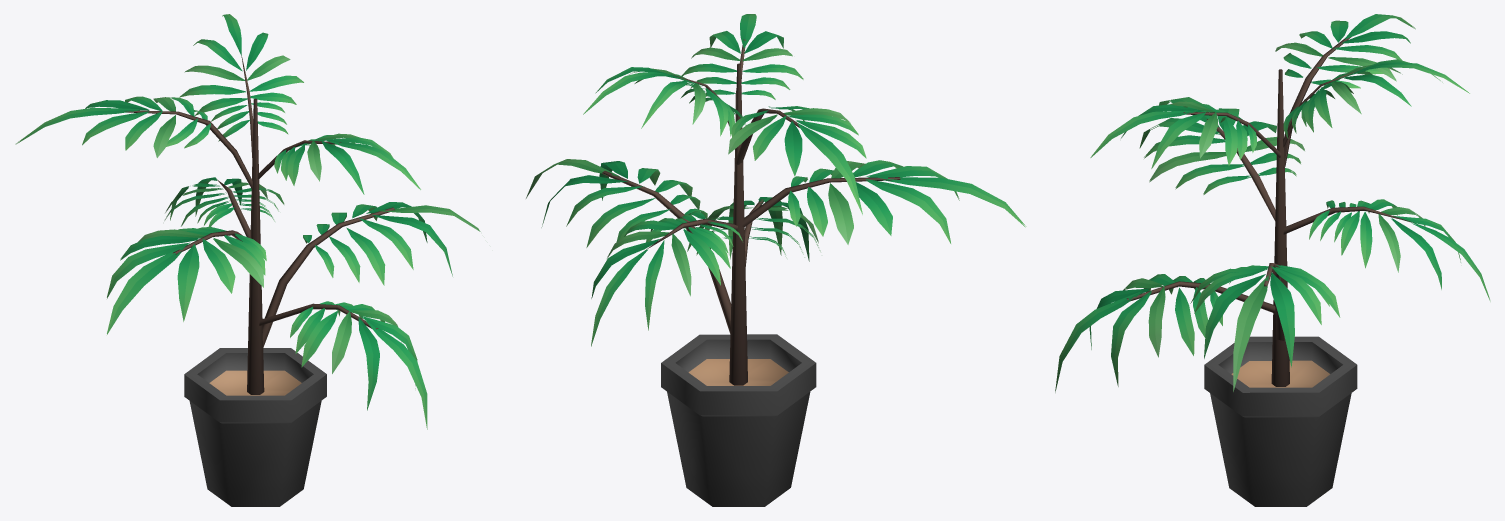
The model's file is SK_Pot_003.FBX.
3 views of the same model, side by side, from view 1: azimuth 30°, elevation 25°; view 2: azimuth 150°, elevation 25°; view 3: azimuth 270°, elevation 25° (orthographic). The views are drawn at different scales.
Visible parts, largest first — view 1: SK_Pot_003; view 2: SK_Pot_003; view 3: SK_Pot_003.
Boxes of the visible parts, box(x1,y1,x2,y2) form: SK_Pot_003: box(15, 14, 480, 506); SK_Pot_003: box(526, 14, 1026, 506); SK_Pot_003: box(1055, 14, 1490, 506).
Bounding box in the file's own units: 127 × 118 × 105.
1 material, 1 textured.
